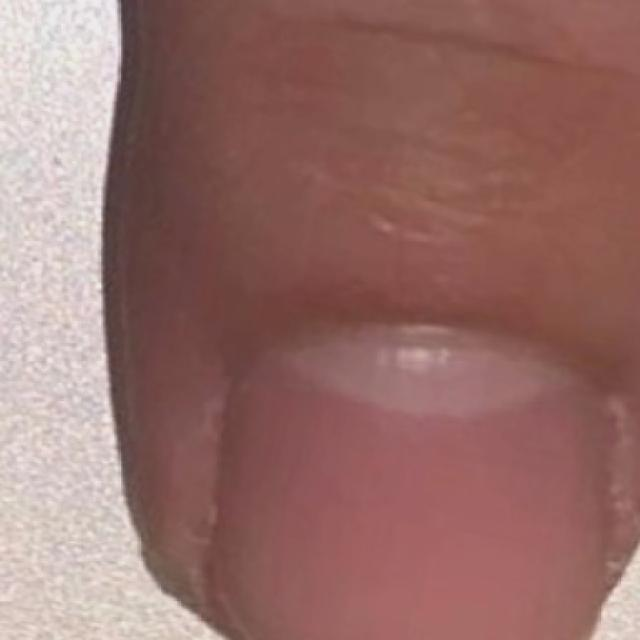Nail: (211, 338, 614, 636)
